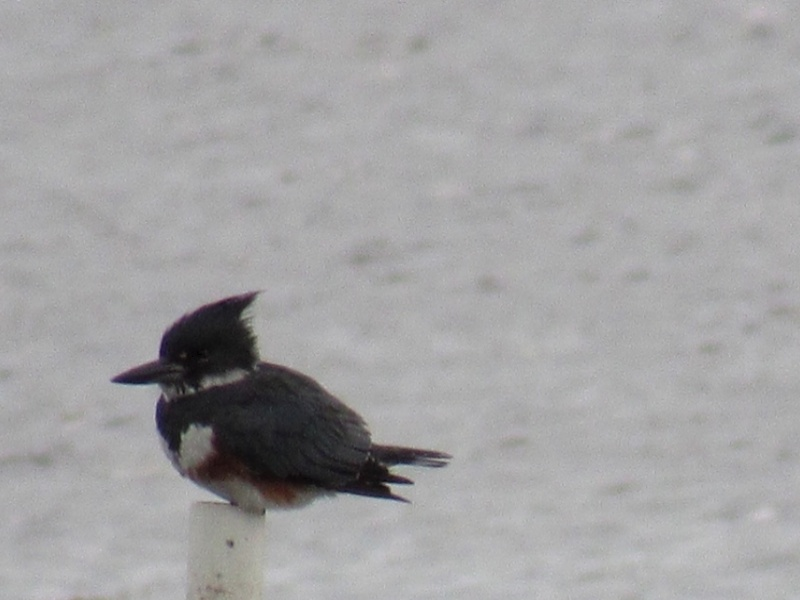kingfisher: (105, 283, 459, 528)
